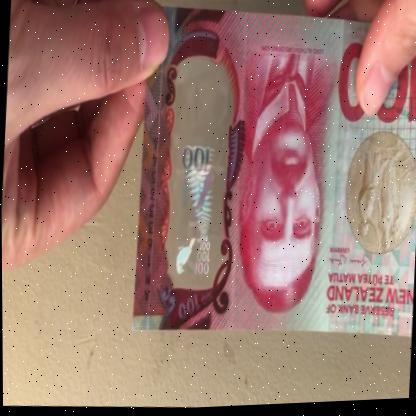100F: (167, 90, 221, 288)
